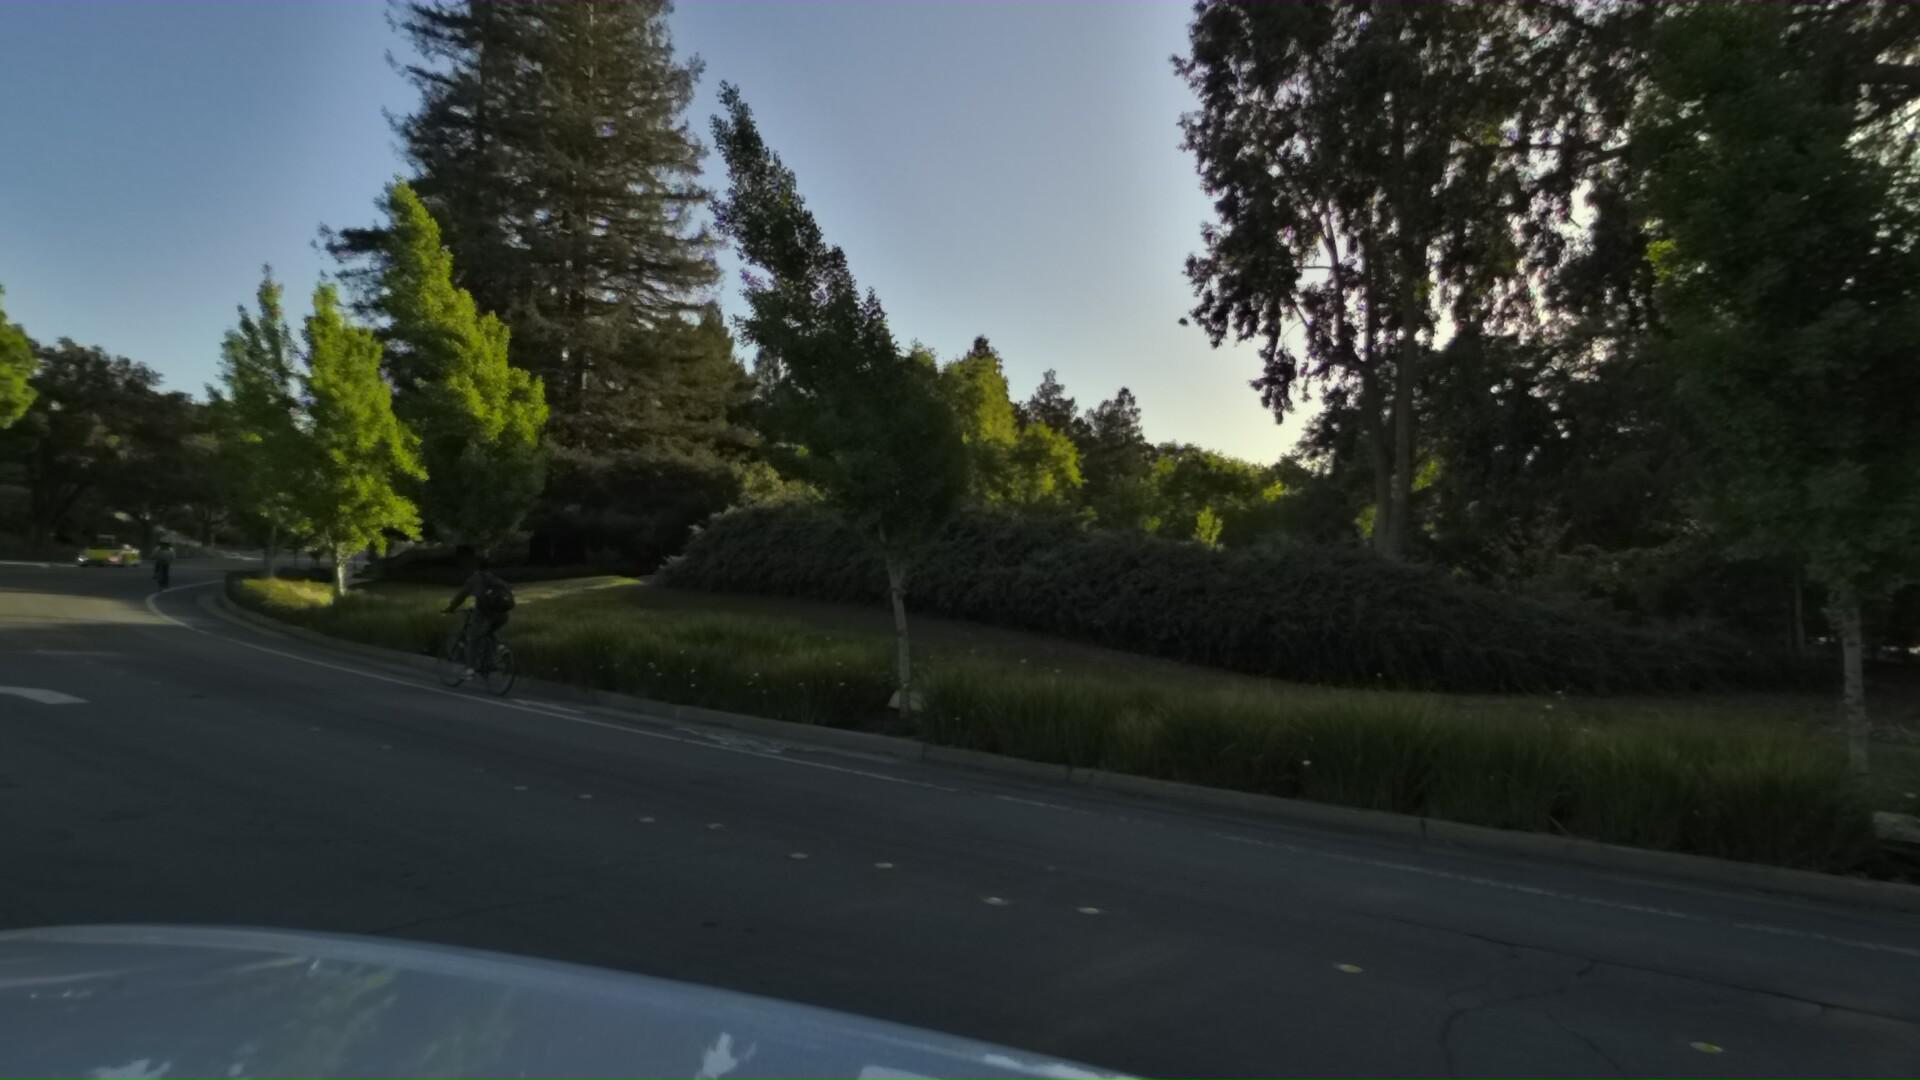bicycle: (388, 537, 530, 702), (146, 531, 189, 593)
car: (70, 535, 152, 568)
